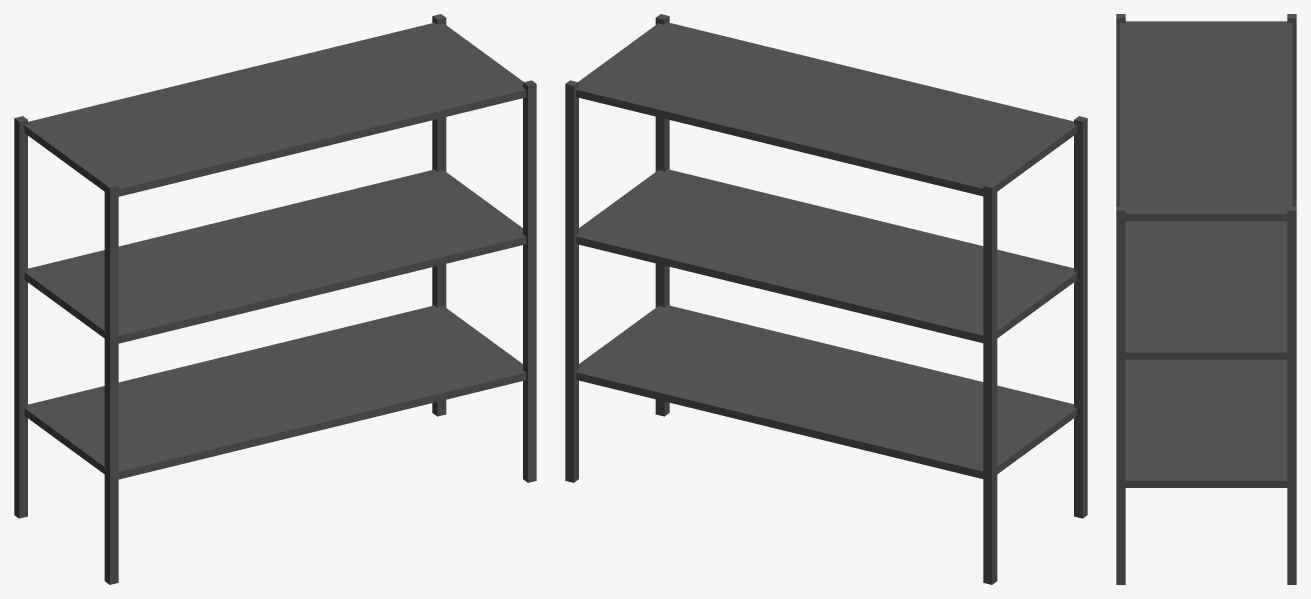
File: medicine rack.FBX
The picture shows the model from 3 angles, left to right: view 1: azimuth 30°, elevation 25°; view 2: azimuth 150°, elevation 25°; view 3: azimuth 270°, elevation 25°; orthographic projection. The views are drawn at different scales.
Visible parts, largest first — view 1: medicine rack; view 2: medicine rack; view 3: medicine rack.
Part boxes in pixels (bbox=[...]): medicine rack: bbox=[14, 14, 536, 584]; medicine rack: bbox=[565, 14, 1087, 584]; medicine rack: bbox=[1116, 14, 1296, 584].
Bounding box in the file's own units: 59.07 × 22.91 × 52.47.
